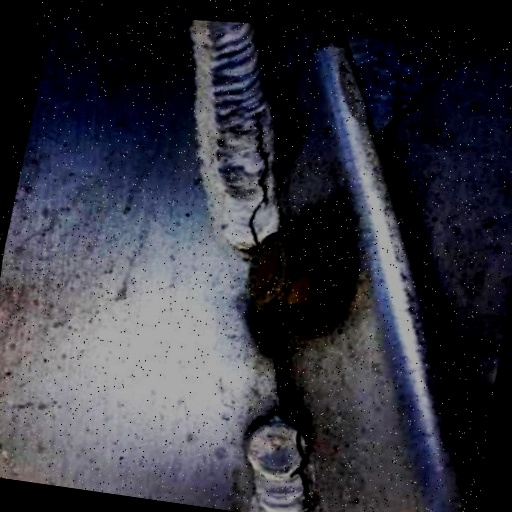crack: (215, 89, 302, 258), (273, 408, 345, 512)
